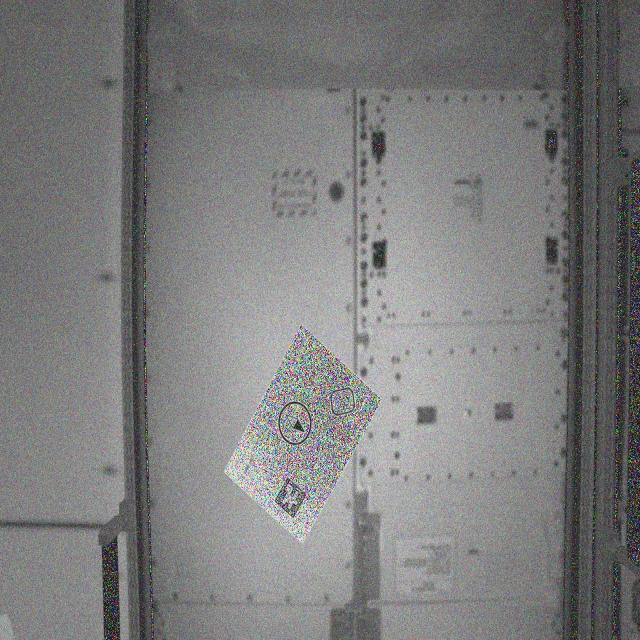compass: (277, 403, 317, 445)
emerald: (327, 380, 365, 420)
